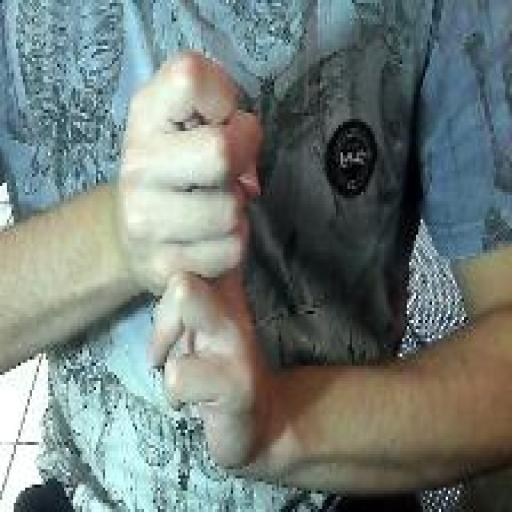Ne -rat-: (113, 46, 271, 475)
